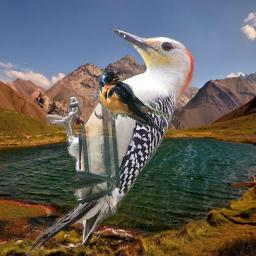Swallow: (98, 70, 181, 133)
Woodpecker: (26, 24, 199, 256)
